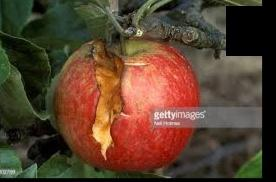rotten apple: (49, 39, 200, 171)
